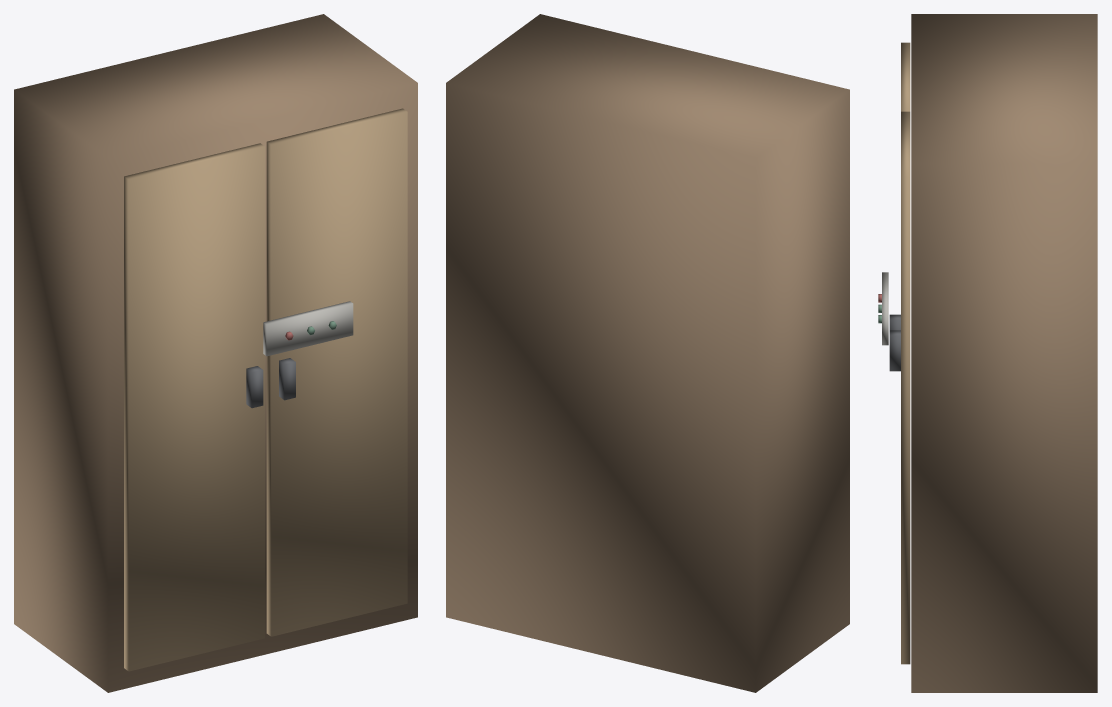
File: kitchen_wall_cabinet__tall.glb
The picture shows the model from 3 angles, left to right: view 1: azimuth 30°, elevation 25°; view 2: azimuth 150°, elevation 25°; view 3: azimuth 270°, elevation 25°; orthographic projection.
Parts seen in each view (by area): view 1: world; view 2: world; view 3: world.
Part boxes in pixels (<box>): world: <box>14,14,417,692</box>; world: <box>446,14,849,692</box>; world: <box>878,14,1097,692</box>.
Bounding box in the file's own units: 0.95 × 1.57 × 0.5885.
